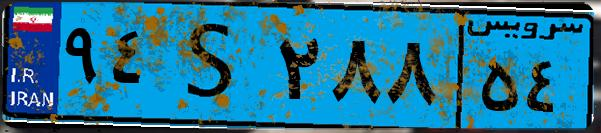2: (270, 28, 330, 110)
4: (525, 38, 570, 115), (110, 28, 158, 98)
5: (475, 38, 525, 113)
8: (385, 28, 445, 110), (330, 28, 385, 110)
9: (57, 26, 110, 100)
S: (158, 12, 270, 120)
